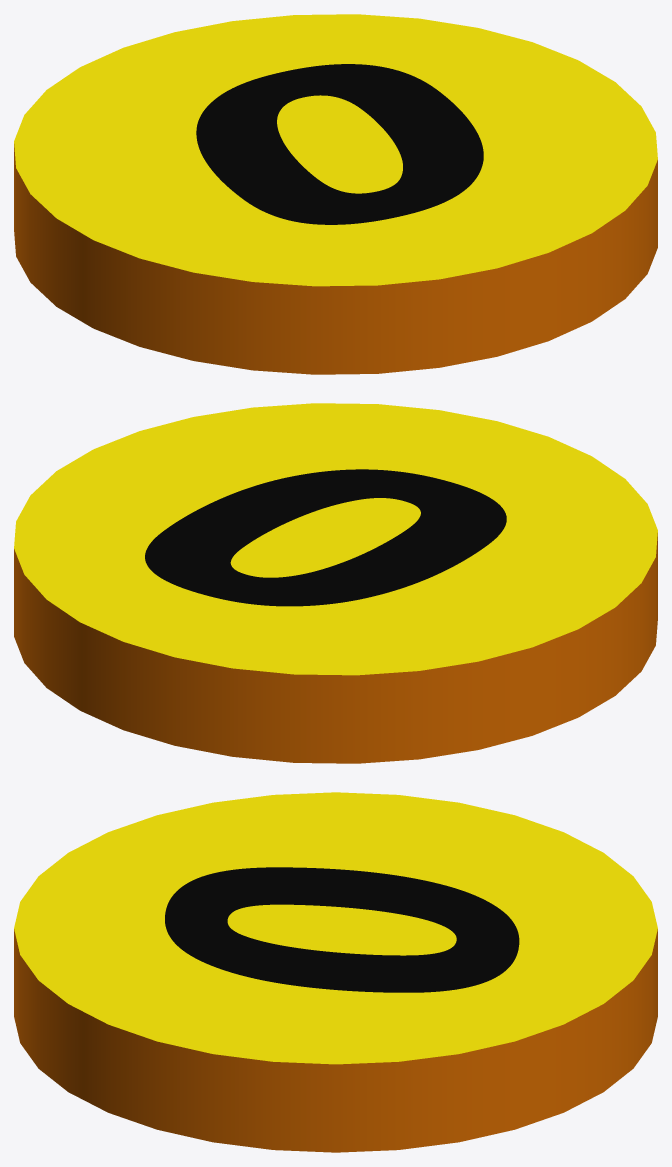
File: zero.fbx
3 views of the same model, one above another, from view 1: azimuth 30°, elevation 25°; view 2: azimuth 150°, elevation 25°; view 3: azimuth 270°, elevation 25° (orthographic).
Visible parts, largest first — view 1: ทรงกระบอก.008, ช้อความ.008; view 2: ทรงกระบอก.008, ช้อความ.008; view 3: ทรงกระบอก.008, ช้อความ.008.
Part boxes in pixels (x1,y1,x2,y2): ทรงกระบอก.008: (14,14,657,374); ช้อความ.008: (196,64,483,224); ทรงกระบอก.008: (14,403,657,763); ช้อความ.008: (145,469,506,606); ทรงกระบอก.008: (14,792,657,1152); ช้อความ.008: (165,867,519,992).
Bounding box in the file's own units: 200 × 30.84 × 200.
